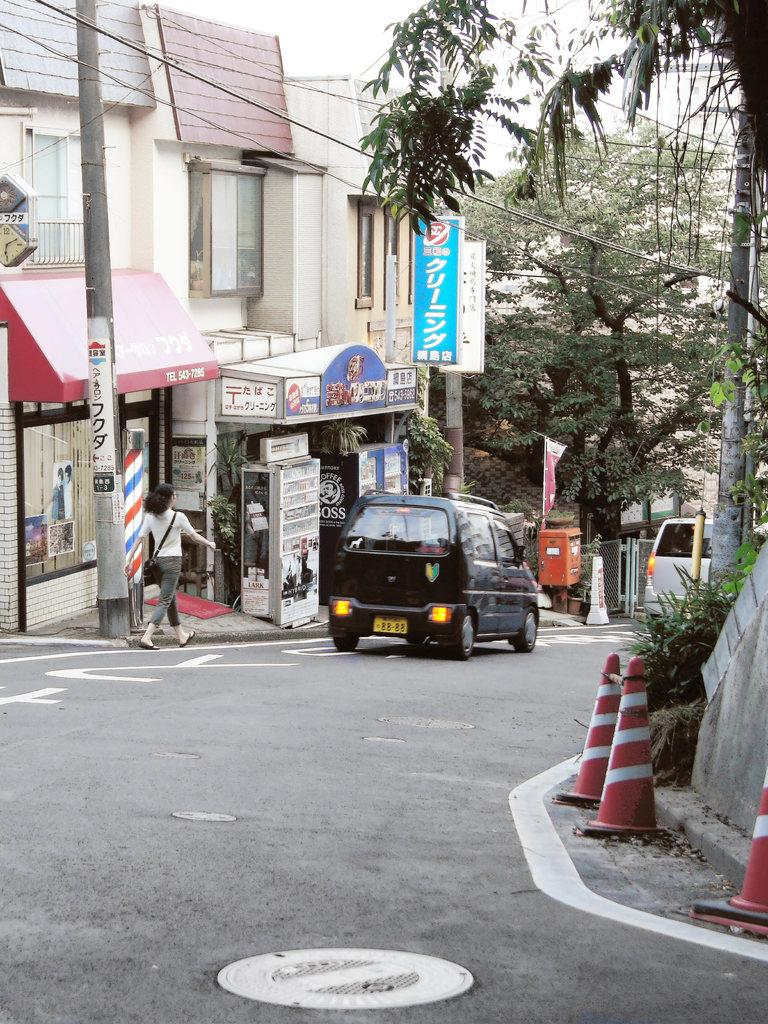vehicle: (330, 491, 540, 660), (641, 516, 750, 639)
